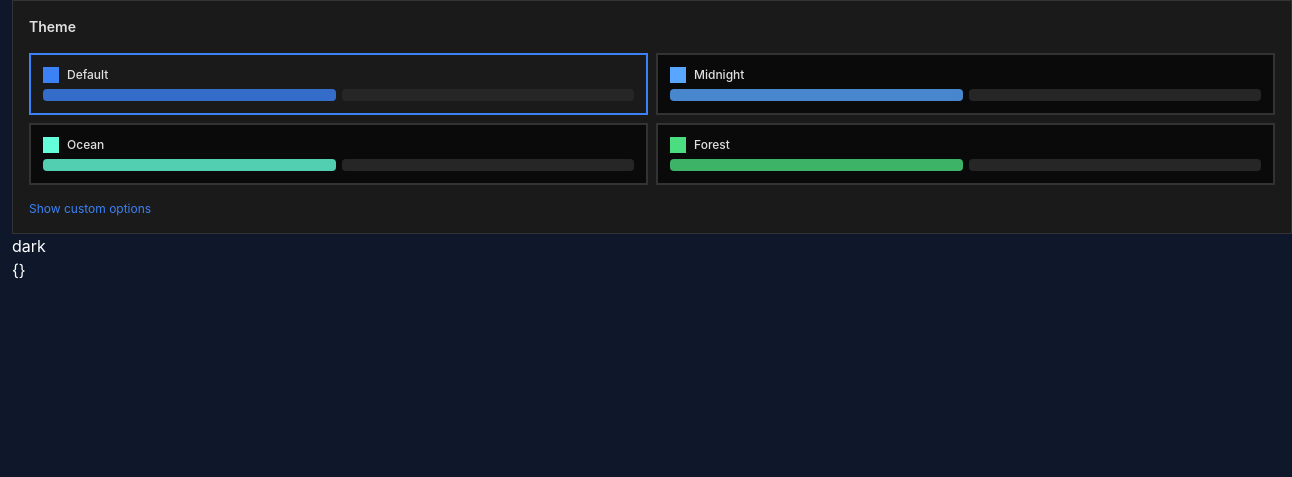
Test: ThemeSwitcher › toggles custom options panel
This screenshot has width=1292, height=477.
Click the button with test id "toggle-custom": (45, 208) [29, 201, 1275, 217]
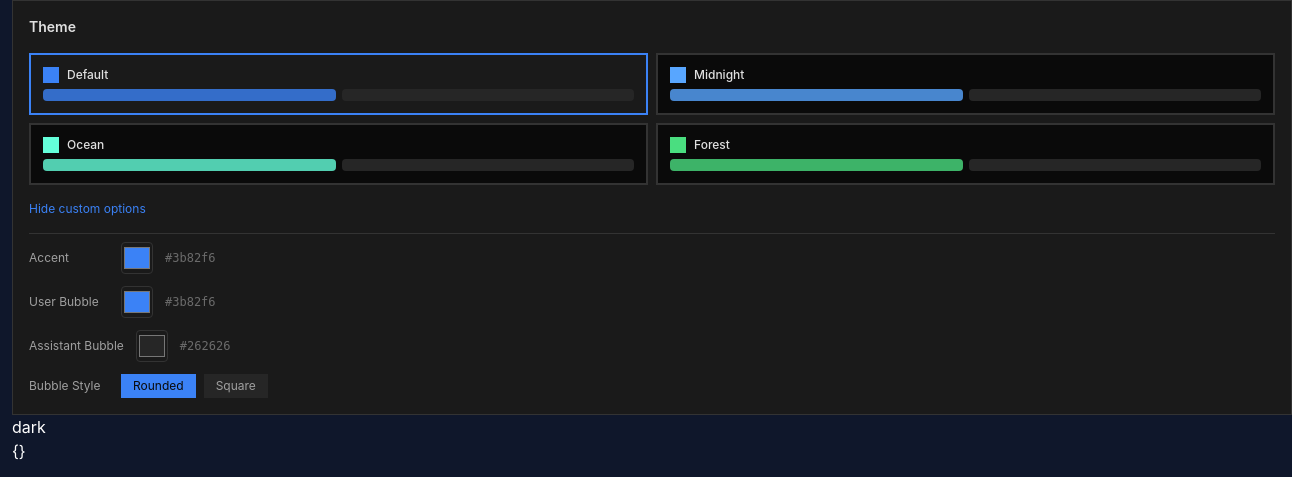
Result: the colour field with test id "color-picker-accent" is shown at [121, 242, 153, 274]
Click the button with test id "toggle-custom": (100, 208) [29, 201, 1275, 217]
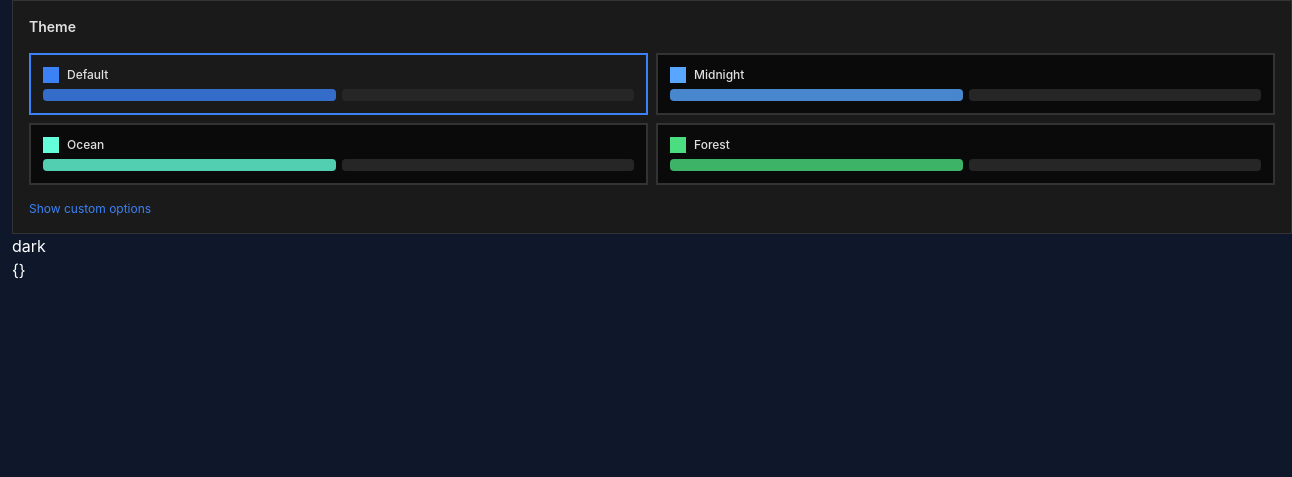
Result: the colour field with test id "color-picker-accent" is gone
